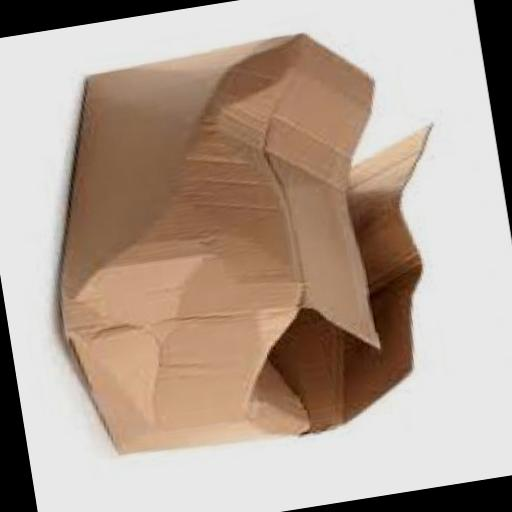cardboard: (26, 15, 482, 472)
